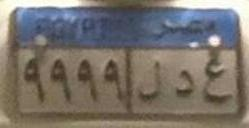9: (101, 56, 125, 106), (49, 54, 73, 104), (23, 58, 46, 105), (76, 57, 97, 107)
ain: (200, 58, 232, 112)
daal: (171, 66, 195, 99)
laam: (137, 55, 162, 106)
